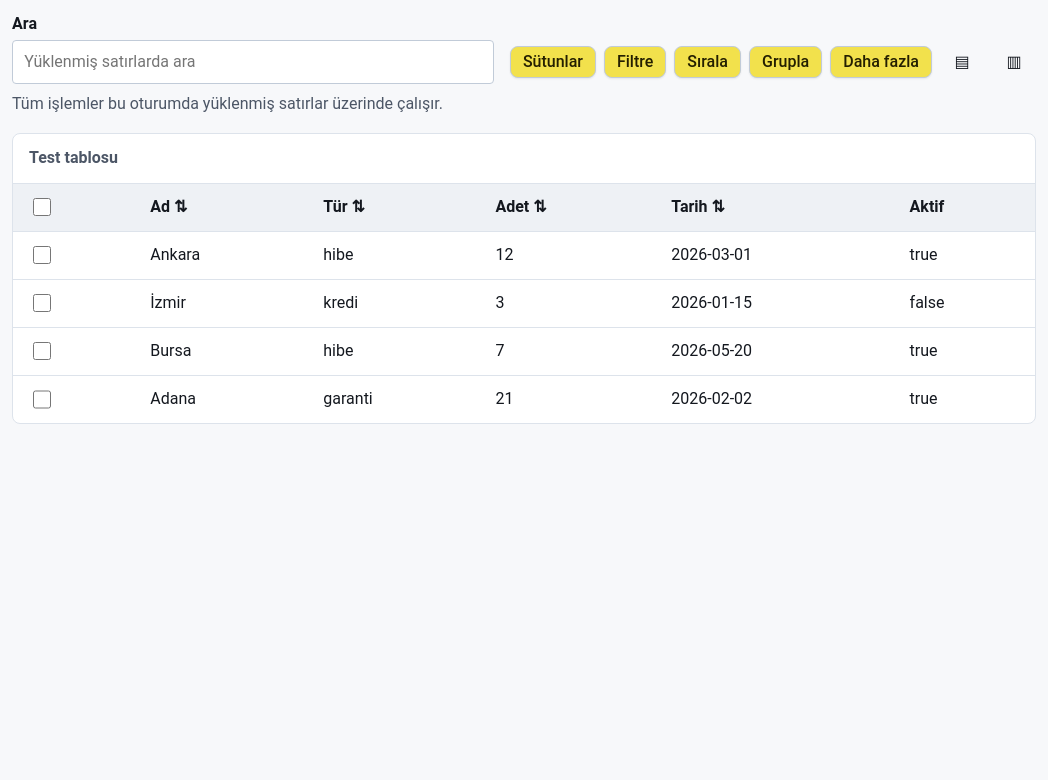
Test case: grouping › groups rows and lets a group collapse
What coordinates should you click on to do the following:
click the button "Grupla"
I would click on:
 (786, 62)
Its box is [749, 46, 822, 78].
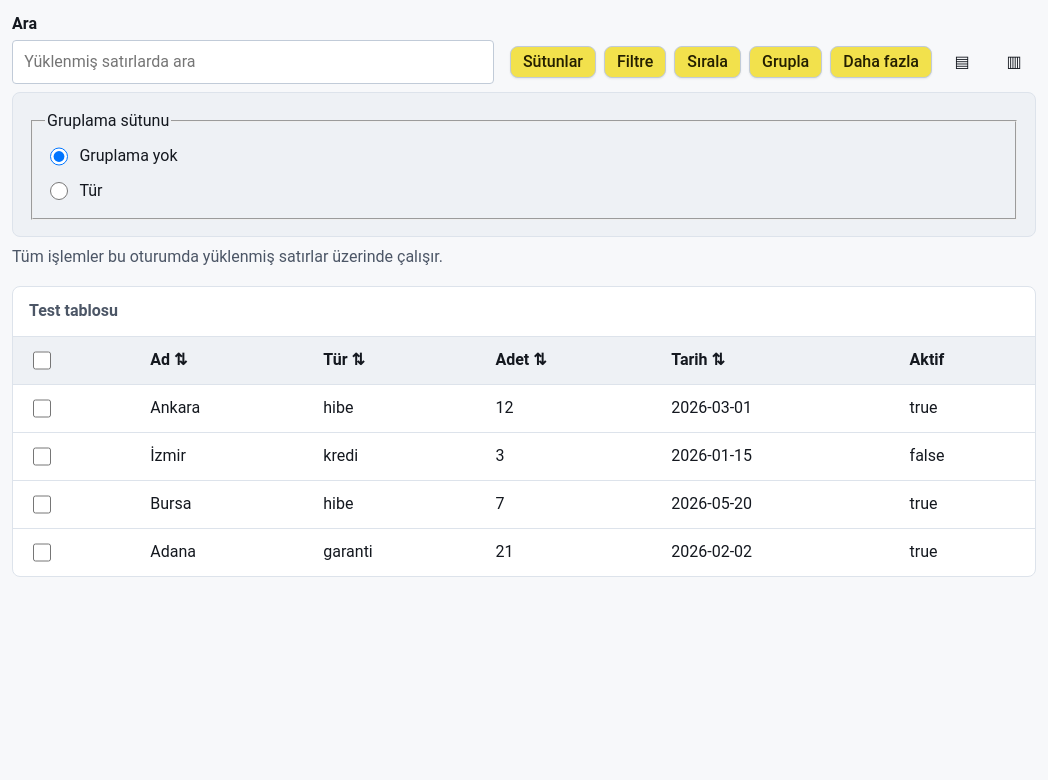
What coordinates should you click on to do the following:
click the radio button labelled "Tür"
I would click on:
 (59, 191)
Its box is [50, 182, 68, 200].
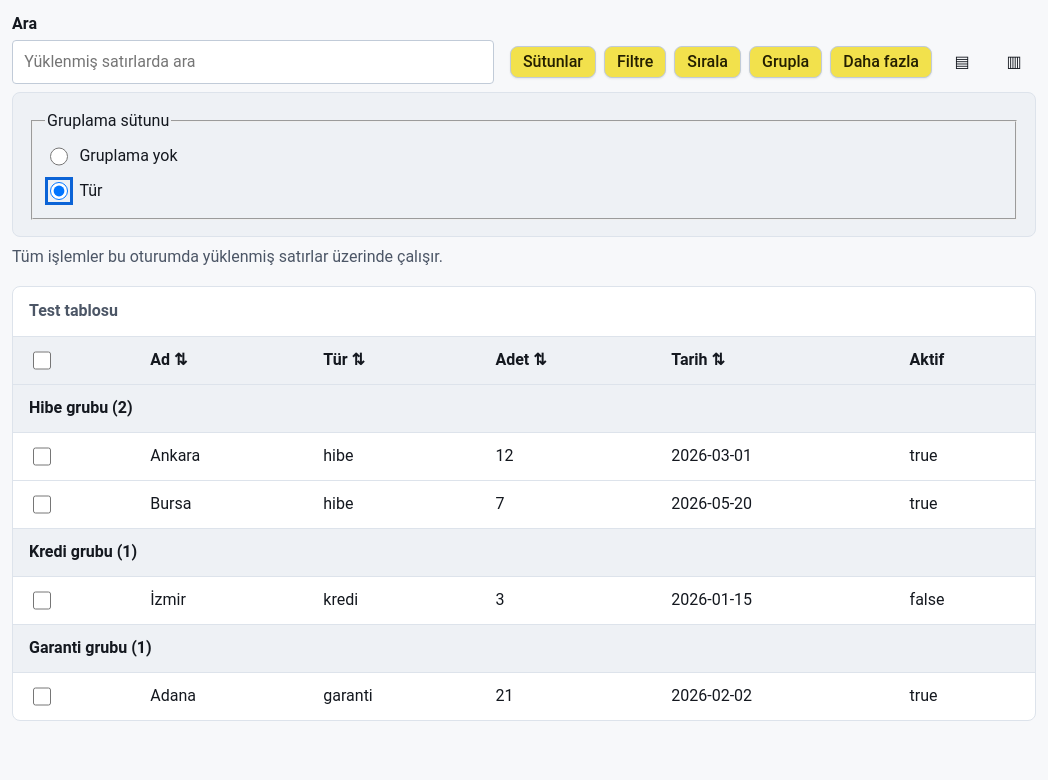
What coordinates should you click on to do the following:
click the button "Hibe grubu (2)"
I would click on:
 (81, 408)
Its box is [29, 396, 132, 421].
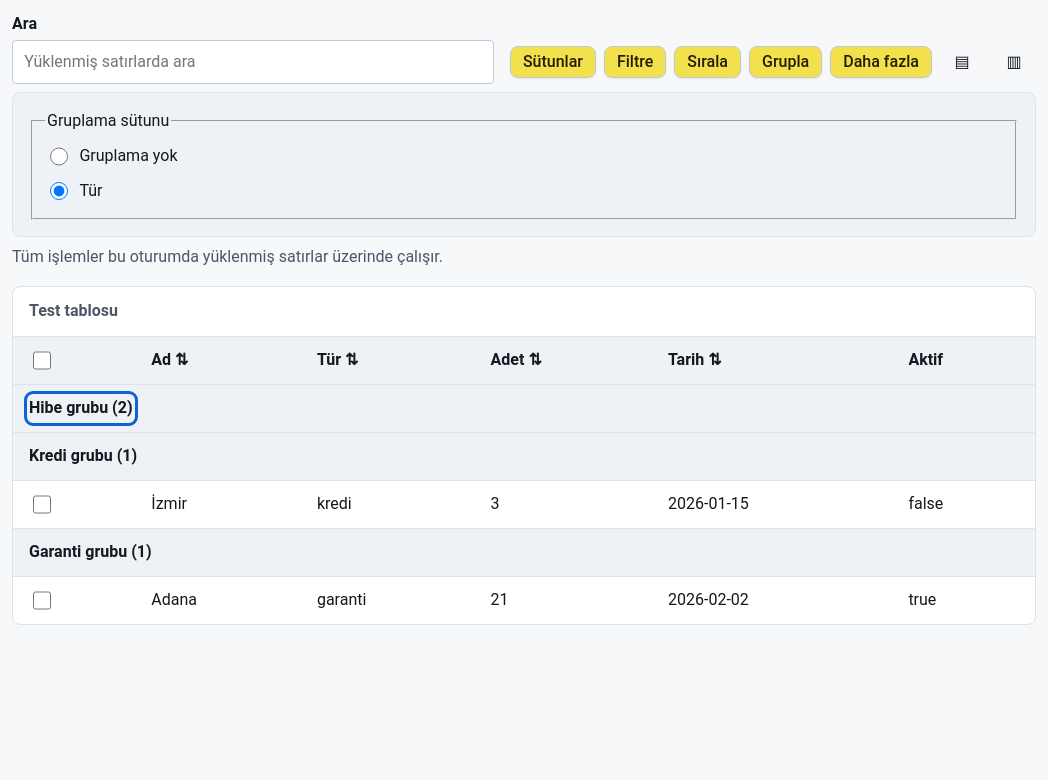
Expected: the text "Ankara" is gone
